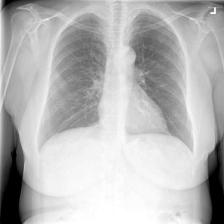normal: (35, 10, 196, 162)
